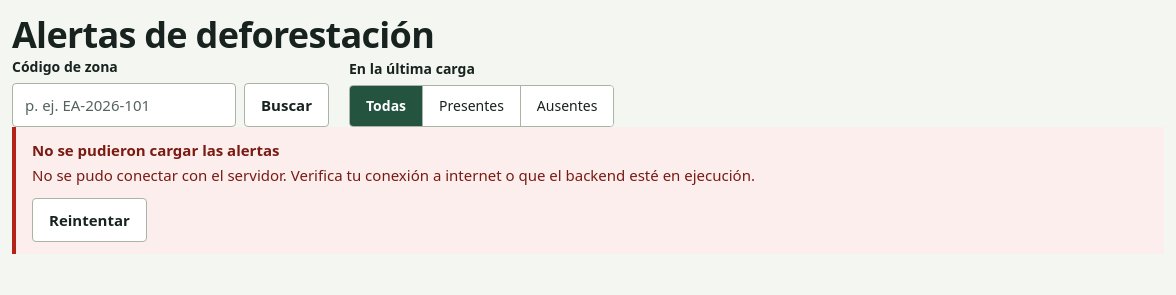
Test case: AlertasPage › muestra un error comprensible y permite reintentar
The width and height of the screenshot is (1176, 295).
Expected: the message shows "No se pudo conectar con el servidor", x1=32 y1=164 x2=755 y2=184
Click the button "Reintentar" at (89, 220), box x1=32 y1=198 x2=147 y2=242
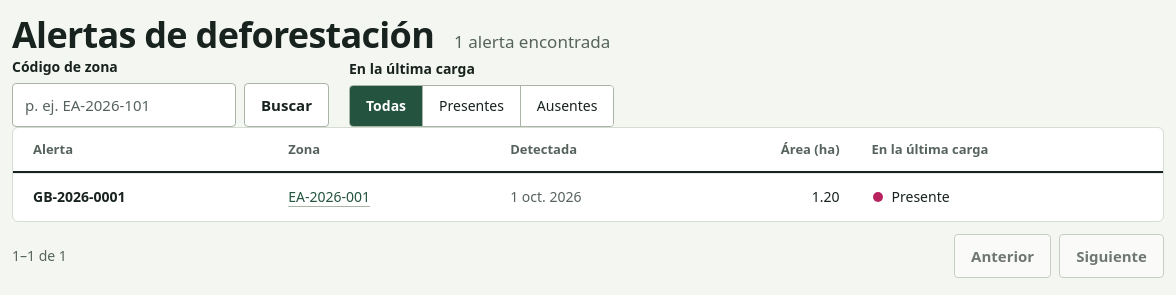
Now the cell "GB-2026-0001" is shown, box x1=13 y1=173 x2=276 y2=221
